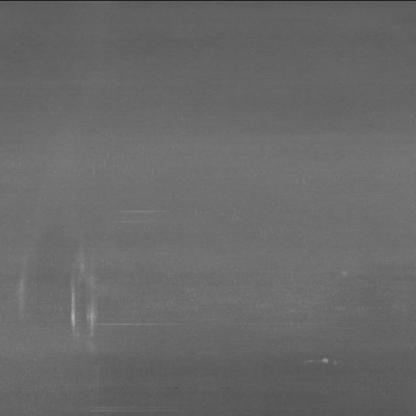waist_folding: (33, 217, 333, 408)
